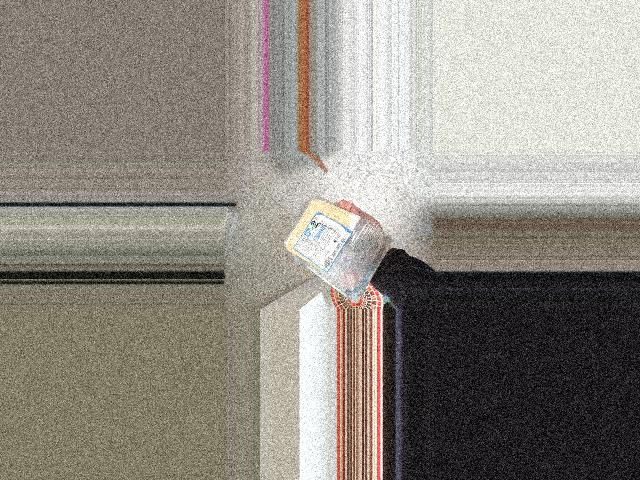cheese: (279, 210, 378, 293)
